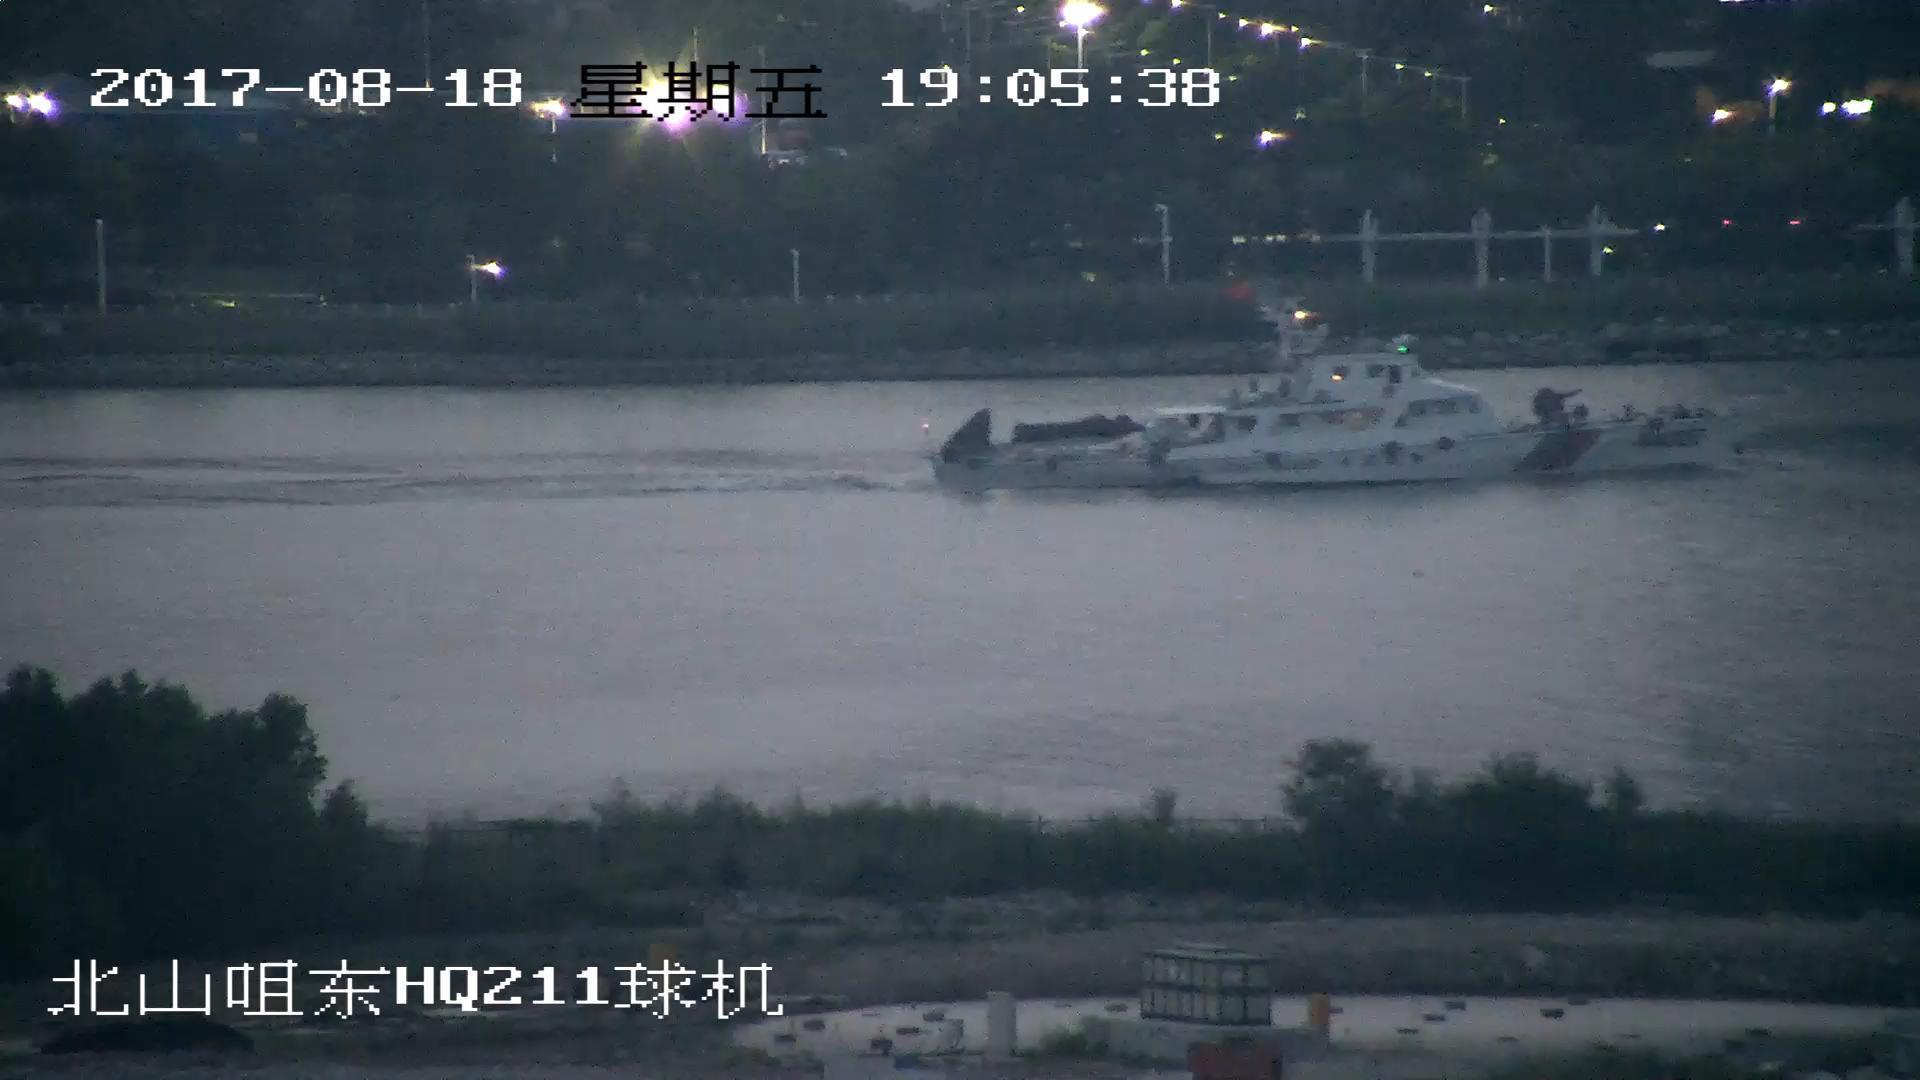passenger ship: (925, 301, 1705, 493)
